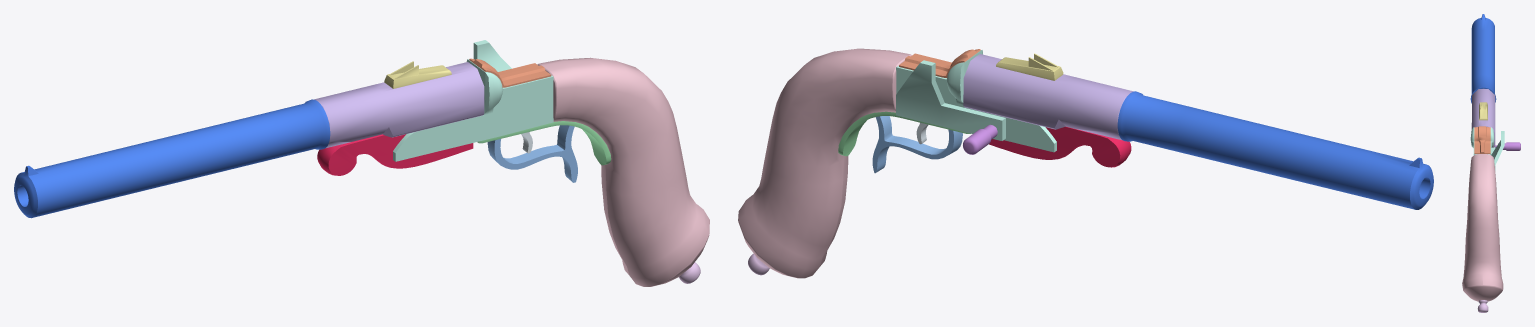
The picture shows the model from 3 angles, left to right: view 1: azimuth 30°, elevation 25°; view 2: azimuth 150°, elevation 25°; view 3: azimuth 270°, elevation 25°; orthographic projection. The views are drawn at different scales.
Parts seen in each view (by area): view 1: split_parent_8, Object_4.027, Object_4.1406, split_parent_6, Object_4.023, Object_4.021, Object_4.104, Object_4.082, split_parent_11; view 2: split_parent_8, Object_4.027, Object_4.1406, split_parent_6, Object_4.023, Object_4.021, Object_4.082, split_parent_11, Object_4.104, Object_4.132; view 3: split_parent_8, Object_4.027, Object_4.1406, Object_4.104, split_parent_6, Object_4.082, Object_4.132, Object_4.
Boxes of the visible parts, x1,y1,x2,y2 form: split_parent_8: (537, 57, 709, 286); Object_4.027: (14, 99, 330, 218); Object_4.1406: (314, 62, 484, 147); split_parent_6: (393, 40, 553, 161); Object_4.023: (317, 134, 473, 175); Object_4.021: (487, 125, 577, 182); Object_4.104: (469, 58, 551, 87); Object_4.082: (384, 61, 451, 88); split_parent_11: (477, 121, 611, 165); split_parent_8: (738, 48, 911, 278); Object_4.027: (1117, 91, 1433, 209); Object_4.1406: (963, 54, 1133, 139); split_parent_6: (896, 50, 1056, 152); Object_4.023: (989, 126, 1131, 167); Object_4.021: (872, 116, 962, 173); Object_4.082: (996, 53, 1063, 80); split_parent_11: (838, 111, 970, 156); Object_4.104: (899, 49, 980, 77); Object_4.132: (963, 124, 997, 154); split_parent_8: (1462, 154, 1503, 301); Object_4.027: (1470, 14, 1496, 103); Object_4.1406: (1471, 88, 1495, 147); Object_4.104: (1474, 126, 1490, 153); split_parent_6: (1470, 127, 1504, 170); Object_4.082: (1479, 102, 1487, 120); Object_4.132: (1495, 142, 1520, 150); Object_4: (1477, 300, 1488, 312).
Size of the model in its own units: 1 by 0.399 by 0.1493.
